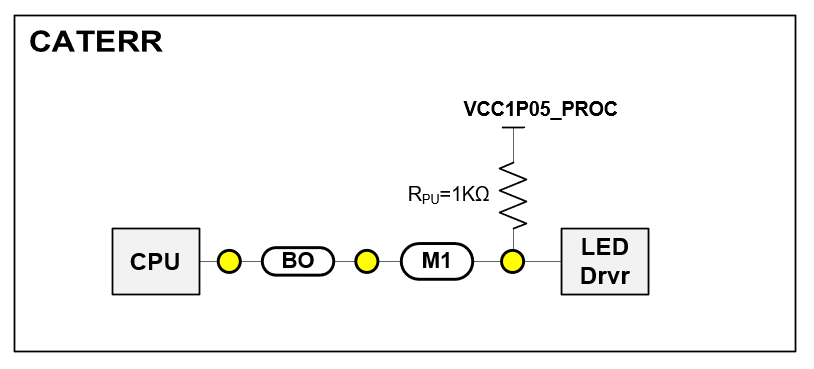circle: (354, 246, 380, 275), (502, 248, 527, 276), (216, 248, 242, 274)
oval: (399, 241, 475, 283), (262, 244, 336, 279)
power: (499, 122, 526, 156)
rectangle: (109, 224, 205, 300), (560, 225, 652, 299)
resistor: (496, 161, 533, 231)
